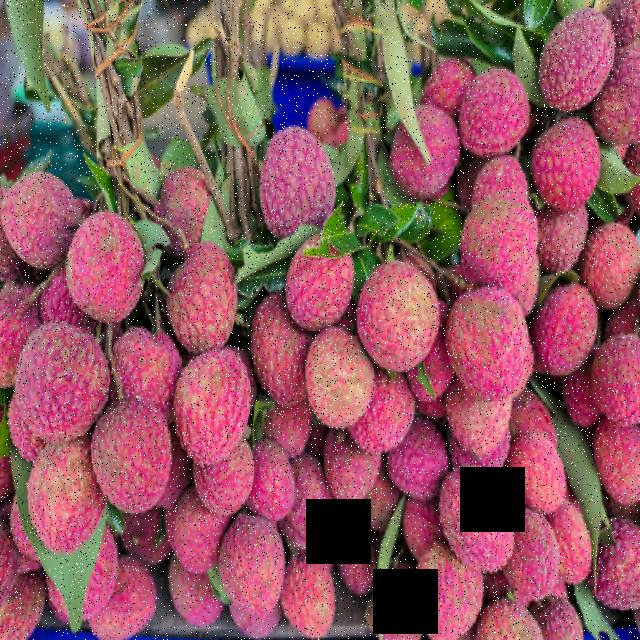lychee: (5, 151, 640, 632)
